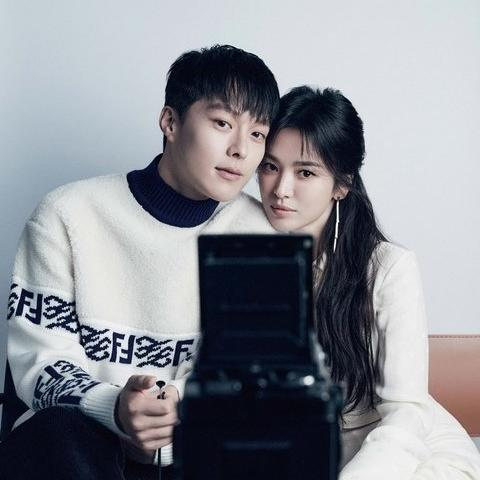opened: (196, 95, 270, 148), (259, 152, 333, 184)
